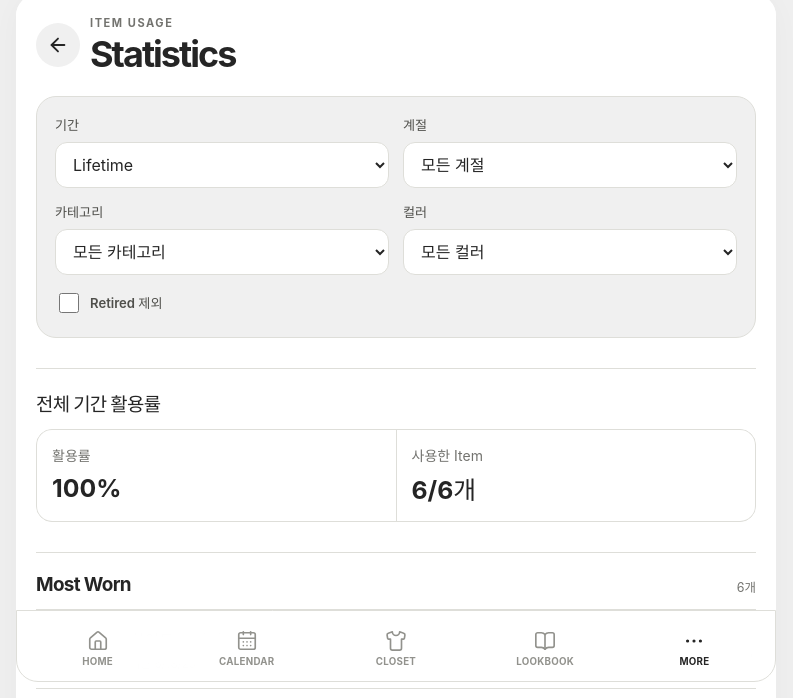
Test: StatisticsPage Phase 4 item usage › labels a past year honestly and shows active items without records
Check: the heading "전체 기간 활용률" is shown, box [36,389,160,416]
Select "2025년" in the dropdown labelled "기간": (222, 165) [55,142,389,188]
(page scrolled)
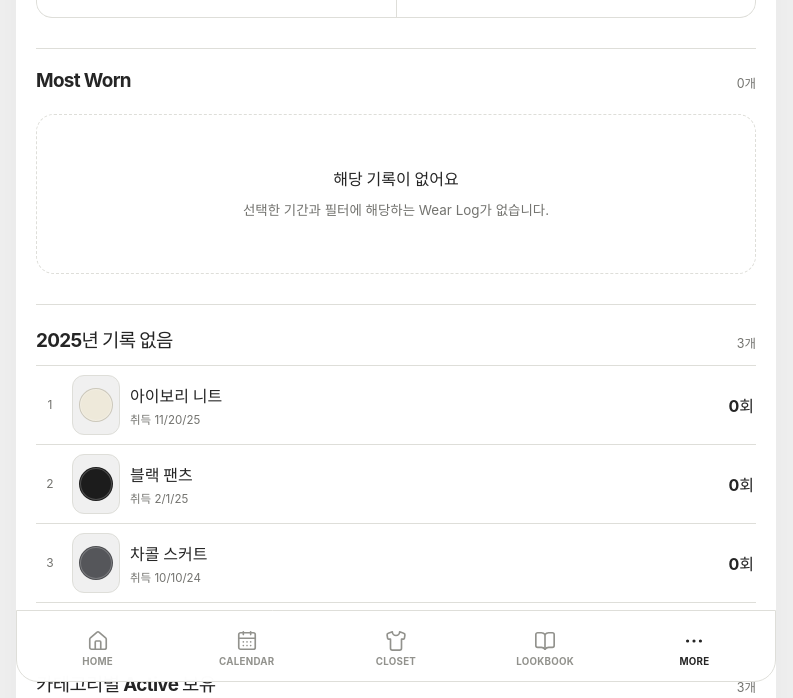
Check: the heading "2025년 기록 없음" is shown, box [36,325,173,352]
